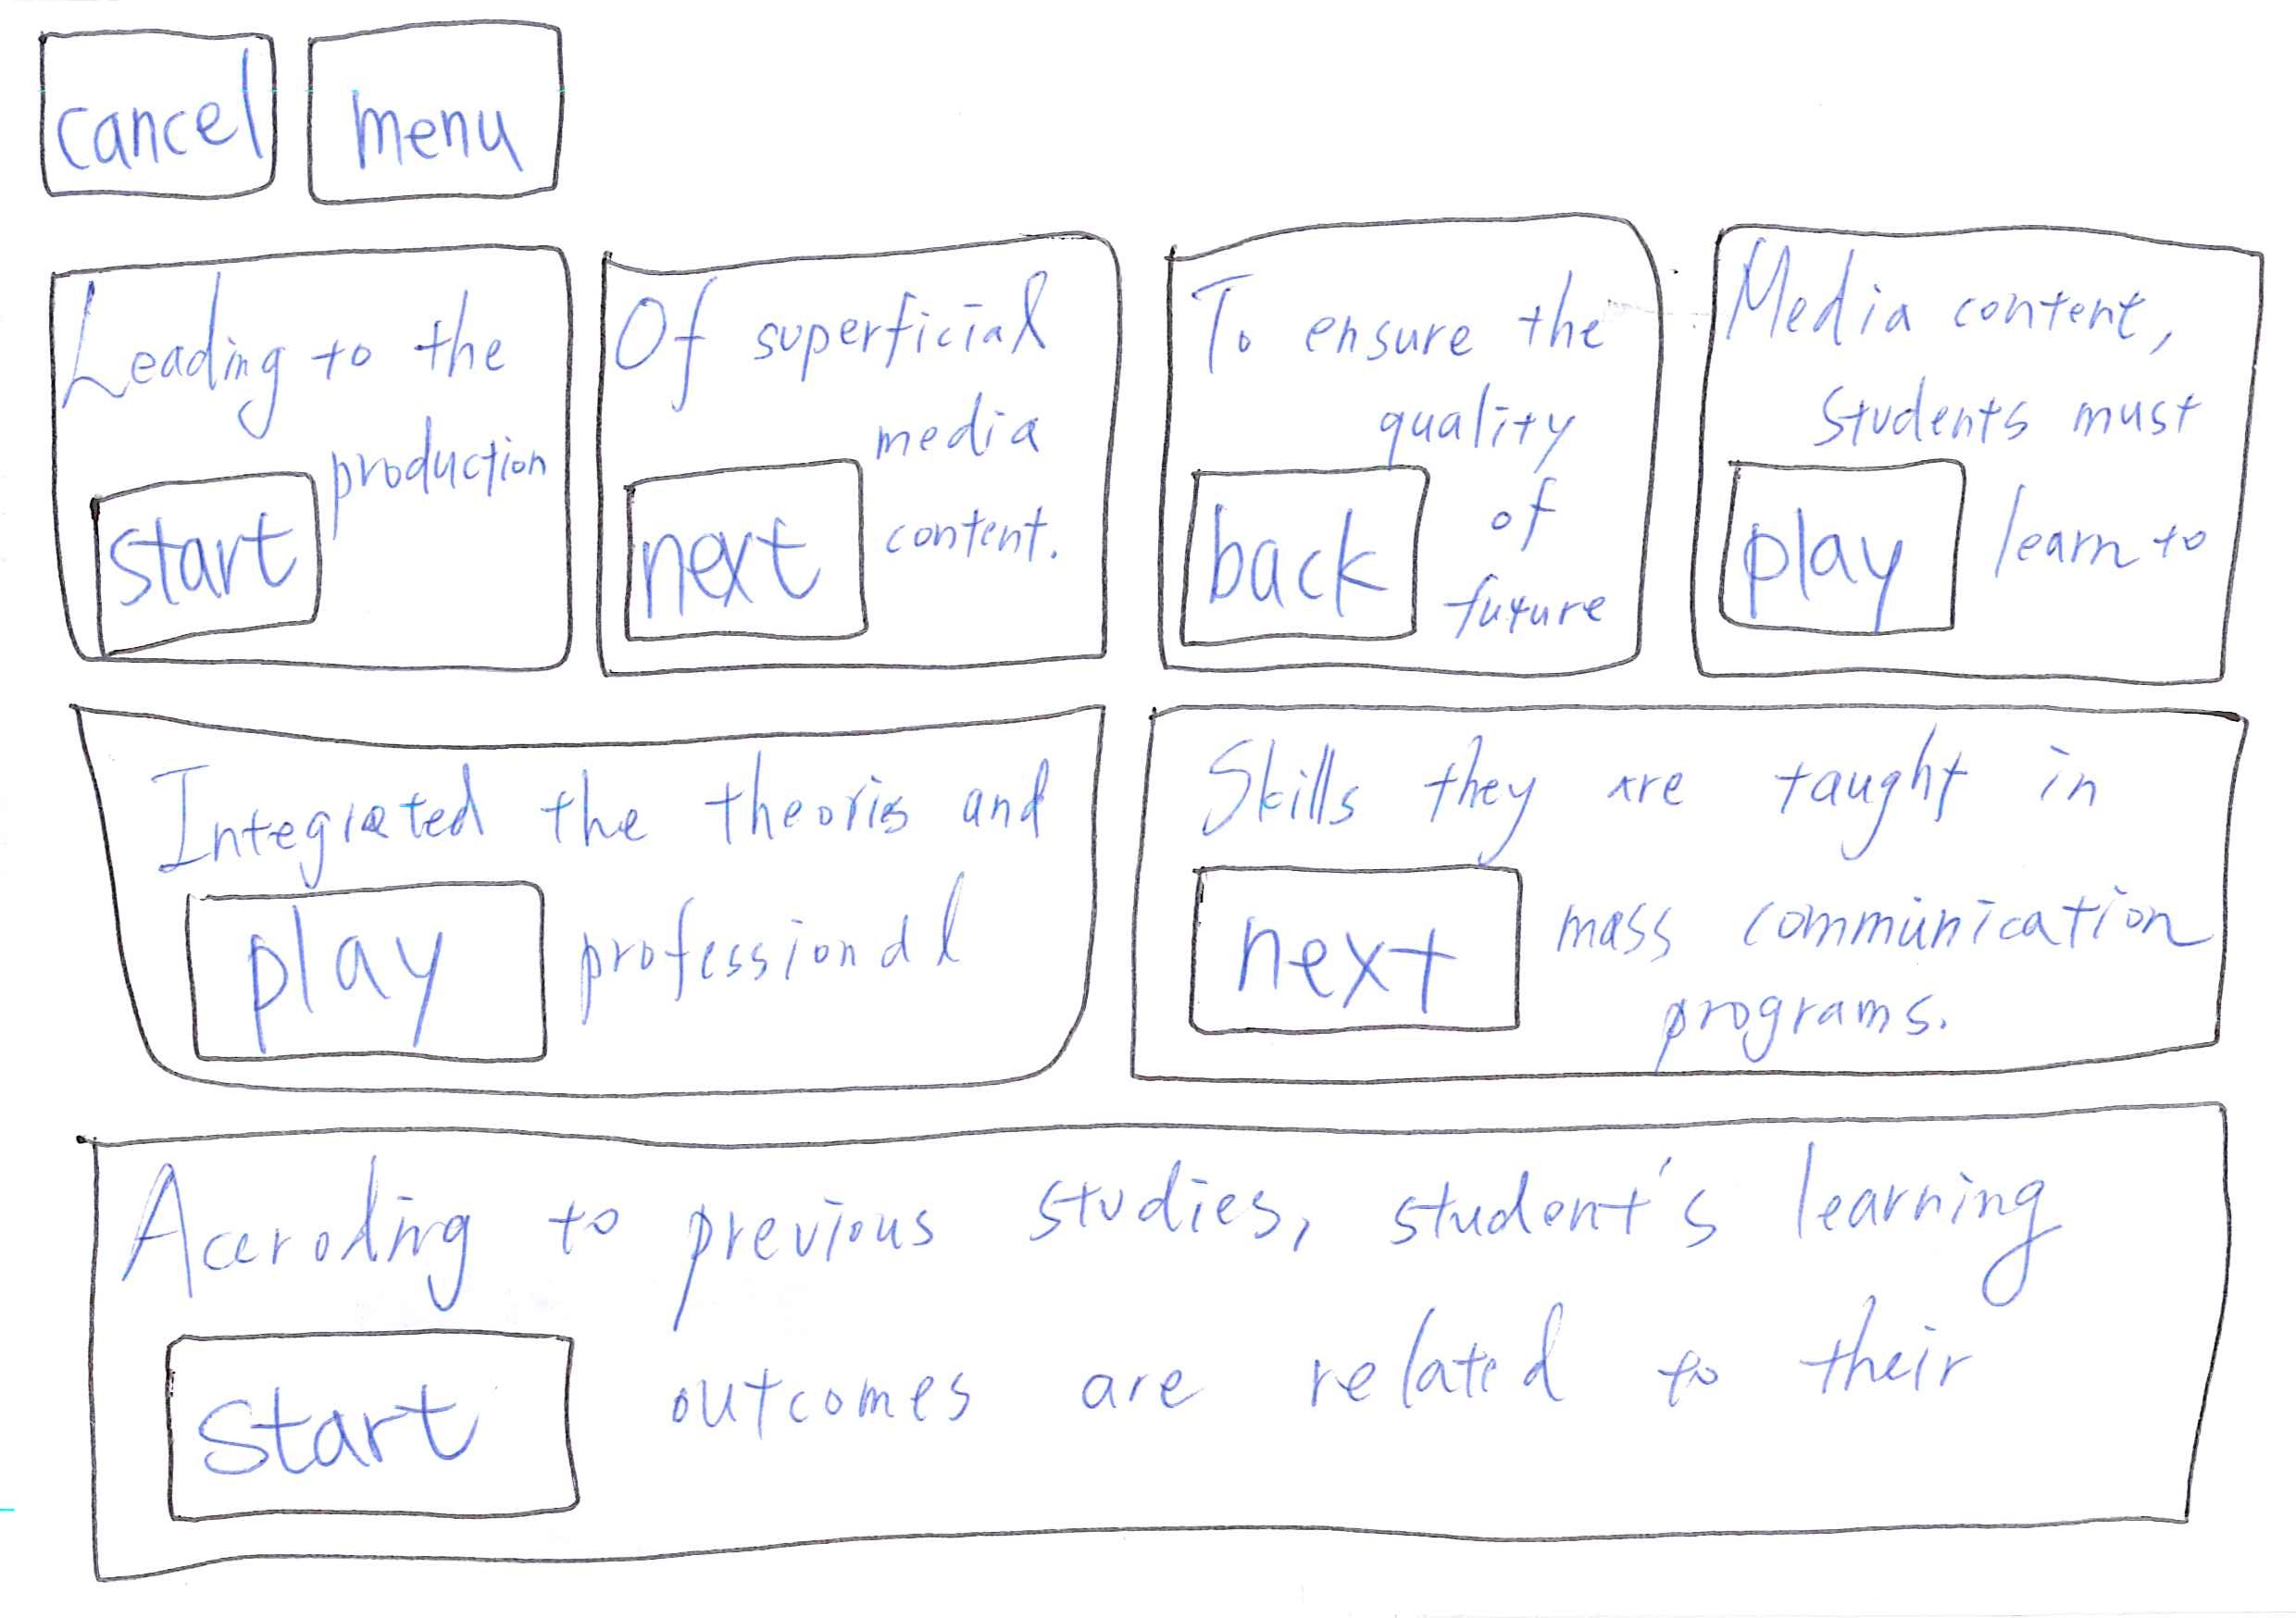back: (1173, 454, 1461, 658)
cancel: (14, 7, 296, 233)
double: (1105, 692, 2296, 1108), (35, 686, 1119, 1119)
menu: (287, 2, 594, 215)
next: (1165, 849, 1546, 1063), (594, 450, 884, 660)
play: (138, 874, 578, 1086), (1702, 440, 1988, 658)
quadruple: (1673, 186, 2280, 697), (1123, 191, 1681, 700), (28, 226, 592, 720), (580, 224, 1124, 692)
row: (12, 193, 2296, 711), (12, 1087, 2296, 1558), (12, 683, 2296, 1100), (12, 5, 2296, 222)
single: (35, 1086, 2292, 1604)
small-title: (133, 1177, 2098, 1268), (1214, 730, 2117, 835), (1722, 270, 2156, 419), (154, 776, 1053, 839), (616, 282, 1060, 392), (74, 294, 506, 403), (1207, 271, 1629, 378)
start: (152, 1312, 604, 1539), (67, 461, 340, 650)
text: (653, 1313, 1995, 1427), (1543, 863, 2184, 1030), (571, 874, 1012, 1028), (1426, 394, 1615, 646), (895, 385, 1056, 601), (2011, 427, 2194, 595), (340, 419, 552, 522)
